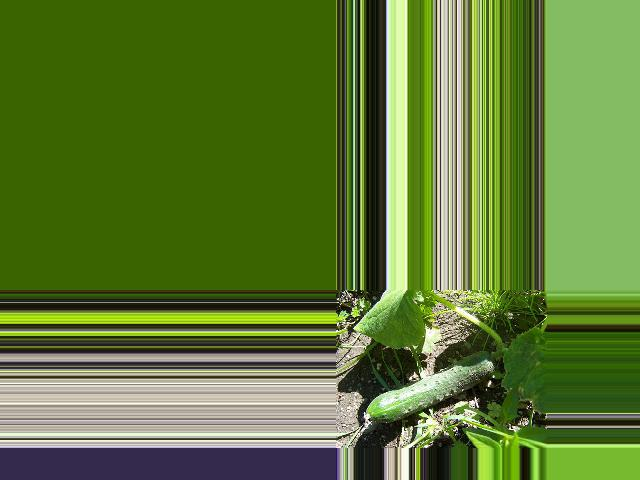cucumber: (364, 350, 496, 423)
